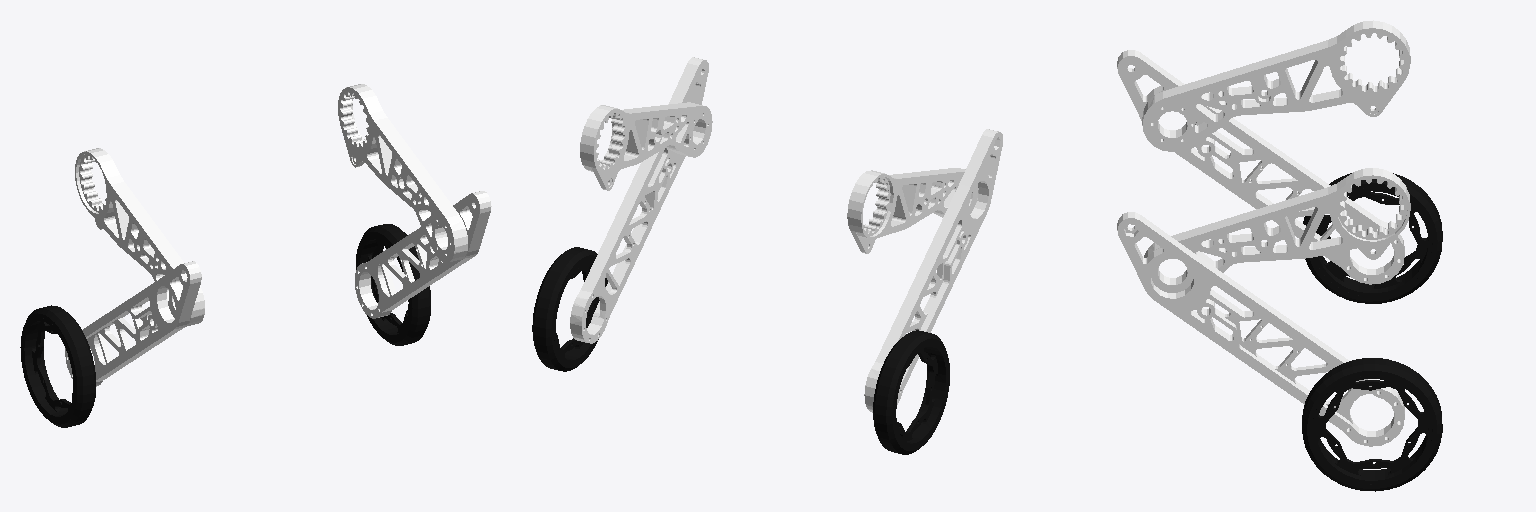
robot.urdf — swpu2026:
<?xml version="1.0" encoding="utf-8"?>
<!-- Isaac Gym: mesh paths relative to this file (see ../meshes/). ROS 原版保留 swpu2026.urdf -->
<robot name="swpu2026">
  <link name="base_link">
    <inertial>
      <origin xyz="0.00161129181866105 0.00267538351501408 0.00410642898906377" rpy="0 0 0" />
      <mass value="7.77868970352745" />
      <inertia ixx="0.017100491922553" ixy="3.35493623525181E-05" ixz="4.03556936561051E-05" iyy="0.0102230666406823" iyz="-0.000119009469420495" izz="0.0167903765697" />
    </inertial>
    <visual>
      <origin xyz="0 0 0" rpy="0 0 0" />
      <geometry>
        <mesh filename="../meshes/base_link.STL" />
      </geometry>
      <material name="">
        <color rgba="0.223529411764706 0.223529411764706 0.223529411764706 1" />
      </material>
    </visual>
    <collision>
      <origin xyz="0 -0.004236 0.077112" rpy="0 0 0" />
      <geometry>
        <box size="0.45 0.5 0.3" />
      </geometry>
    </collision>
  </link>
  <link name="lf0_Link">
    <inertial>
      <origin xyz="0.0390624416098619 -0.104551173212069 -0.0348558957446734" rpy="0 0 0" />
      <mass value="0.319585181445898" />
      <inertia ixx="0.00205578822980885" ixy="-1.06067200473907E-05" ixz="-1.71534552965702E-06" iyy="0.000291878465008882" iyz="-0.000494186621517744" izz="0.00178082961829503" />
    </inertial>
    <visual>
      <origin xyz="0 0 0" rpy="0 0 0" />
      <geometry>
        <mesh filename="../meshes/lf0_Link.STL" />
      </geometry>
      <material name="">
        <color rgba="1 1 1 1" />
      </material>
    </visual>
    <collision>
      <origin xyz="0.0388 -0.095323 -0.030094" rpy="0 0 0" />
      <geometry>
        <box size="0.018 0.2666 0.136158" />
      </geometry>
    </collision>
  </link>
  <joint name="lf0_Joint" type="revolute">
    <origin xyz="-0.212 0 0" rpy="0 0 0" />
    <parent link="base_link" />
    <child link="lf0_Link" />
    <axis xyz="1 0 0" />
    <limit lower="-1" upper="1" effort="100" velocity="1" />
    <dynamics damping="1.0" friction="0.2" />
  </joint>
  <link name="lf1_Link">
    <inertial>
      <origin xyz="0.0124136486263842 0.0787055433615324 -0.0583185245472561" rpy="0 0 0" />
      <mass value="0.236397231263423" />
      <inertia ixx="0.00243280208384949" ixy="-5.22494380154793E-06" ixz="4.09908816683082E-06" iyy="0.000982203737666586" iyz="0.00108812343216197" izz="0.0014593841489505" />
    </inertial>
    <visual>
      <origin xyz="0 0 0" rpy="0 0 0" />
      <geometry>
        <mesh filename="../meshes/lf1_Link.STL" />
      </geometry>
      <material name="">
        <color rgba="1 1 1 1" />
      </material>
    </visual>
    <collision>
      <origin xyz="0.012 0.088028 -0.058821" rpy="0 0 0" />
      <geometry>
        <box size="0.015 0.286191 0.250858" />
      </geometry>
    </collision>
  </link>
  <joint name="lf1_Joint" type="revolute">
    <origin xyz="0.0093 -0.19862 -0.068182" rpy="0 0 0" />
    <parent link="lf0_Link" />
    <child link="lf1_Link" />
    <axis xyz="1 0 0" />
    <limit lower="-1" upper="0.517" effort="100" velocity="1" />
    <dynamics damping="1.0" friction="0.2" />
  </joint>
  <link name="Wheel_Link">
    <inertial>
      <origin xyz="0.0207687347027654 0.000432600771123289 -0.000313428906757146" rpy="0 0 0" />
      <mass value="0.68284615482101" />
      <inertia ixx="0.00103591988304488" ixy="2.08087045678001E-07" ixz="-1.96828629936745E-07" iyy="0.000540262660432301" iyz="-3.49544067800836E-06" izz="0.000537978072105672" />
    </inertial>
    <visual>
      <origin xyz="0 0 0" rpy="0 0 0" />
      <geometry>
        <mesh filename="../meshes/Wheel_Link.STL" />
      </geometry>
      <material name="">
        <color rgba="0.113725490196078 0.113725490196078 0.113725490196078 1" />
      </material>
    </visual>
    <collision>
      <origin xyz="0.012625 0.000092 -0.000022" rpy="0 1.57079632679 0" />
      <geometry>
        <cylinder radius="0.06995" length="0.025" />
      </geometry>
    </collision>
  </link>
  <joint name="left_wheel_joint" type="continuous">
    <origin xyz="-0.035525 0.19862 -0.15182" rpy="0 0 0" />
    <parent link="lf1_Link" />
    <child link="Wheel_Link" />
    <axis xyz="1 0 0" />
    <limit effort="100" velocity="20" />
    <dynamics damping="0.2" friction="0.05" />
  </joint>
  <link name="rf0_Link">
    <inertial>
      <origin xyz="-0.0389624416098634 -0.104551173212066 -0.0348558957446994" rpy="0 0 0" />
      <mass value="0.319585181445898" />
      <inertia ixx="0.00205578822980884" ixy="1.06067200473894E-05" ixz="1.71534552965946E-06" iyy="0.000291878465009127" iyz="-0.000494186621518113" izz="0.00178082961829478" />
    </inertial>
    <visual>
      <origin xyz="0 0 0" rpy="0 0 0" />
      <geometry>
        <mesh filename="../meshes/rf0_Link.STL" />
      </geometry>
      <material name="">
        <color rgba="1 1 1 1" />
      </material>
    </visual>
    <collision>
      <origin xyz="-0.0387 -0.095323 -0.030094" rpy="0 0 0" />
      <geometry>
        <box size="0.018 0.2666 0.136158" />
      </geometry>
    </collision>
  </link>
  <joint name="rf0_Joint" type="revolute">
    <origin xyz="0.212 0 0" rpy="0 0 0" />
    <parent link="base_link" />
    <child link="rf0_Link" />
    <axis xyz="-1 0 0" />
    <limit lower="-1" upper="1" effort="100" velocity="1" />
    <dynamics damping="1.0" friction="0.2" />
  </joint>
  <link name="rf1_Link">
    <inertial>
      <origin xyz="-0.00891364862638272 0.0787055433615468 -0.0583185245472334" rpy="0 0 0" />
      <mass value="0.236397231263424" />
      <inertia ixx="0.0024328020838495" ixy="5.22494380154756E-06" ixz="-4.09908816682849E-06" iyy="0.000982203737666049" iyz="0.00108812343216186" izz="0.00145938414895104" />
    </inertial>
    <visual>
      <origin xyz="0 0 0" rpy="0 0 0" />
      <geometry>
        <mesh filename="../meshes/rf1_Link.STL" />
      </geometry>
      <material name="">
        <color rgba="1 1 1 1" />
      </material>
    </visual>
    <collision>
      <origin xyz="-0.0085 0.088028 -0.058821" rpy="0 0 0" />
      <geometry>
        <box size="0.015 0.286191 0.250858" />
      </geometry>
    </collision>
  </link>
  <joint name="rf1_Joint" type="revolute">
    <origin xyz="-0.0127 -0.19862 -0.068182" rpy="0 0 0" />
    <parent link="rf0_Link" />
    <child link="rf1_Link" />
    <axis xyz="1 0 0" />
    <limit lower="-1" upper="0.517" effort="100" velocity="1" />
    <dynamics damping="1.0" friction="0.2" />
  </joint>
  <link name="Wheel2_Link">
    <inertial>
      <origin xyz="-0.0240681222808628 0.000430648920478087 -0.000316105402907885" rpy="0 0 0" />
      <mass value="0.682846154323727" />
      <inertia ixx="0.00103591988303143" ixy="-2.51008831410506E-07" ixz="1.37972093254115E-07" iyy="0.000540225898748527" iyz="-3.50724099108435E-06" izz="0.000538014833759301" />
    </inertial>
    <visual>
      <origin xyz="0 0 0" rpy="0 0 0" />
      <geometry>
        <mesh filename="../meshes/Wheel2_Link.STL" />
      </geometry>
      <material name="">
        <color rgba="0.113725490196078 0.113725490196078 0.113725490196078 1" />
      </material>
    </visual>
    <collision>
      <origin xyz="-0.022625 -0.000099 0.000015" rpy="0 1.57079632679 0" />
      <geometry>
        <cylinder radius="0.06995" length="0.025" />
      </geometry>
    </collision>
  </link>
  <joint name="right_wheel_joint" type="continuous">
    <origin xyz="0.039025 0.19862 -0.15182" rpy="0 0 0" />
    <parent link="rf1_Link" />
    <child link="Wheel2_Link" />
    <axis xyz="1 0 0" />
    <limit effort="100" velocity="20" />
    <dynamics damping="0.2" friction="0.05" />
  </joint>
</robot>

--- What the picture shows (computed from the rendered views, not written in the file) ---
The picture shows the robot from 3 angles, left to right: view 1: azimuth 30°, elevation 25°; view 2: azimuth 150°, elevation 25°; view 3: azimuth 270°, elevation 25°; orthographic projection.
Model swpu2026 with 7 links and 6 joints (4 revolute, 2 continuous), rooted at base_link, posed every joint at zero.
Links seen in each view (by area): view 1: rf0_Link, lf1_Link, lf0_Link, rf1_Link, Wheel_Link, Wheel2_Link; view 2: rf1_Link, lf1_Link, rf0_Link, Wheel_Link, lf0_Link, Wheel2_Link; view 3: rf1_Link, lf0_Link, rf0_Link, lf1_Link, Wheel2_Link, Wheel_Link.
Boxes of the visible links, x1=… form: rf0_Link: x1=338, y1=84, x2=467, y2=262; lf1_Link: x1=65, y1=261, x2=201, y2=386; lf0_Link: x1=75, y1=148, x2=204, y2=326; rf1_Link: x1=355, y1=191, x2=491, y2=318; Wheel_Link: x1=20, y1=305, x2=95, y2=427; Wheel2_Link: x1=356, y1=224, x2=430, y2=345; rf1_Link: x1=570, y1=57, x2=708, y2=343; lf1_Link: x1=864, y1=129, x2=1002, y2=412; rf0_Link: x1=580, y1=102, x2=712, y2=190; Wheel_Link: x1=873, y1=330, x2=949, y2=454; lf0_Link: x1=847, y1=168, x2=978, y2=253; Wheel2_Link: x1=532, y1=247, x2=607, y2=371; rf1_Link: x1=1117, y1=212, x2=1404, y2=446; lf0_Link: x1=1142, y1=20, x2=1410, y2=151; rf0_Link: x1=1144, y1=168, x2=1410, y2=292; lf1_Link: x1=1117, y1=50, x2=1404, y2=284; Wheel2_Link: x1=1302, y1=358, x2=1442, y2=491; Wheel_Link: x1=1303, y1=173, x2=1442, y2=303.
Bounding box of the posed robot: 0.4663 × 0.3237 × 0.3279 m (x, y, z).
Meshes: 7 distinct files referenced, 6 mesh visuals loaded (6 binary STL); not drawn: 1 (reference not matched to a file when rendering).
